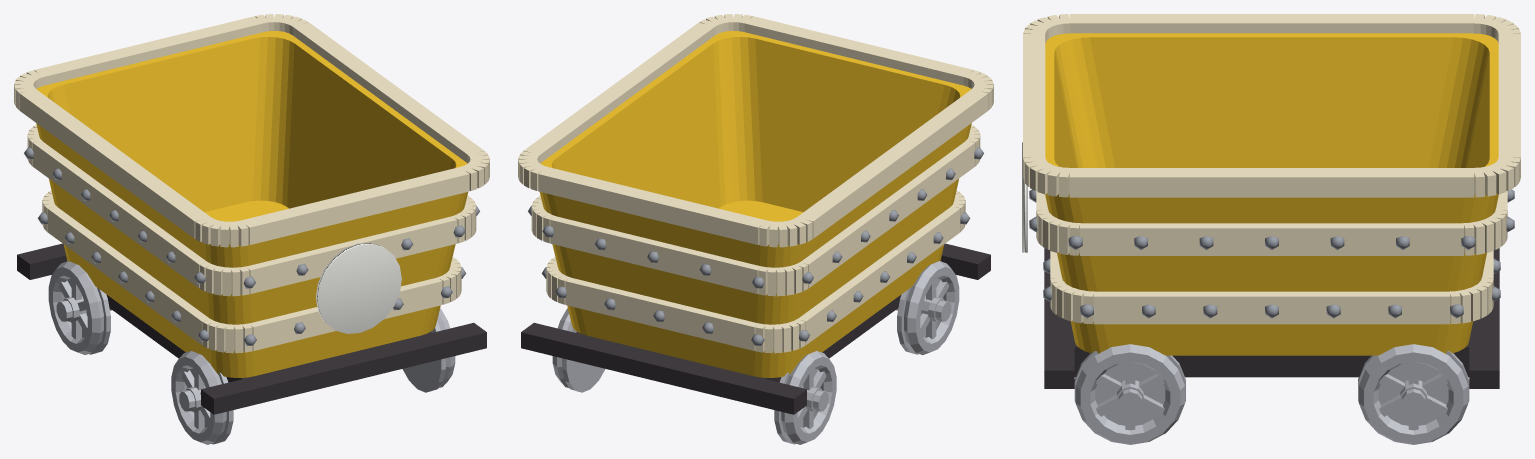
File: MinecartMayhemCart.obj
3 views of the same model, side by side, from view 1: azimuth 30°, elevation 25°; view 2: azimuth 150°, elevation 25°; view 3: azimuth 270°, elevation 25° (orthographic). The views are drawn at different scales.
Visible parts, largest first — view 1: Body, Trim, Chassis, Wheels, Badge, Rivets; view 2: Body, Trim, Chassis, Wheels, Rivets; view 3: Body, Trim, Wheels, Chassis, Rivets.
Part boxes in pixels (x1,y1,x2,y2): Body: (36,31,468,377); Trim: (14,14,489,353); Chassis: (17,243,486,414); Wheels: (48,261,455,444); Badge: (316,242,401,333); Rivets: (24,147,479,346); Body: (539,31,971,377); Trim: (518,14,993,353); Chassis: (521,243,990,414); Wheels: (552,261,959,444); Rivets: (528,147,983,346); Body: (1045,33,1498,355); Trim: (1023,14,1520,324); Wheels: (1074,344,1469,444); Chassis: (1044,248,1499,388); Rivets: (1029,189,1514,318).
Bounding box in the file's own units: 3.82 × 3.12 × 4.93.
